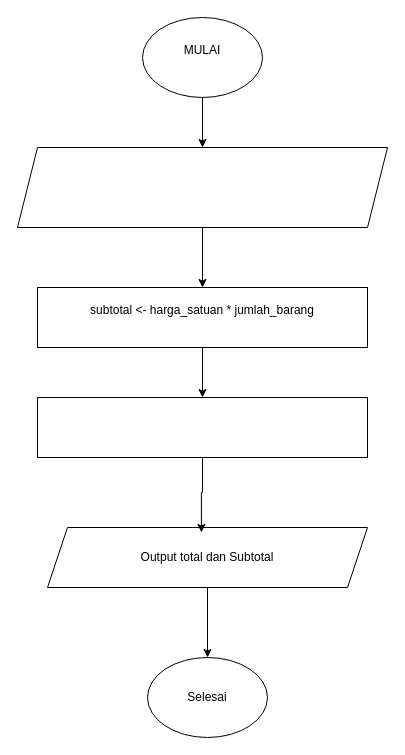
This 405x755 diagram has some shape labels left out. The centre of each missing label's shape, as x and y in pixels:
"INPUT Jumlah_barang,jumlah_barang,biaya_layanan" belongs at pixel 202 187.
"total <- subtotal + biaya_layanan" belongs at pixel 202 427.
